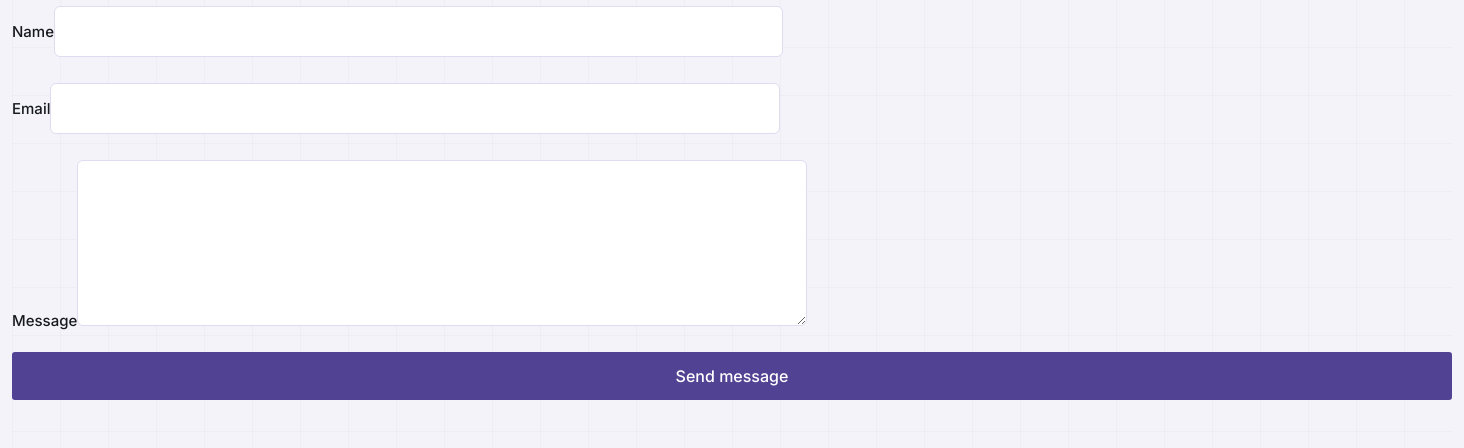
Scenario: ContactForm (E5-F1-S1 / E5-F1-S2) › rejects a malformed email address
In the field labelled "Name": coordinates (419, 31) [54,6,783,57], type "Jane Founder"
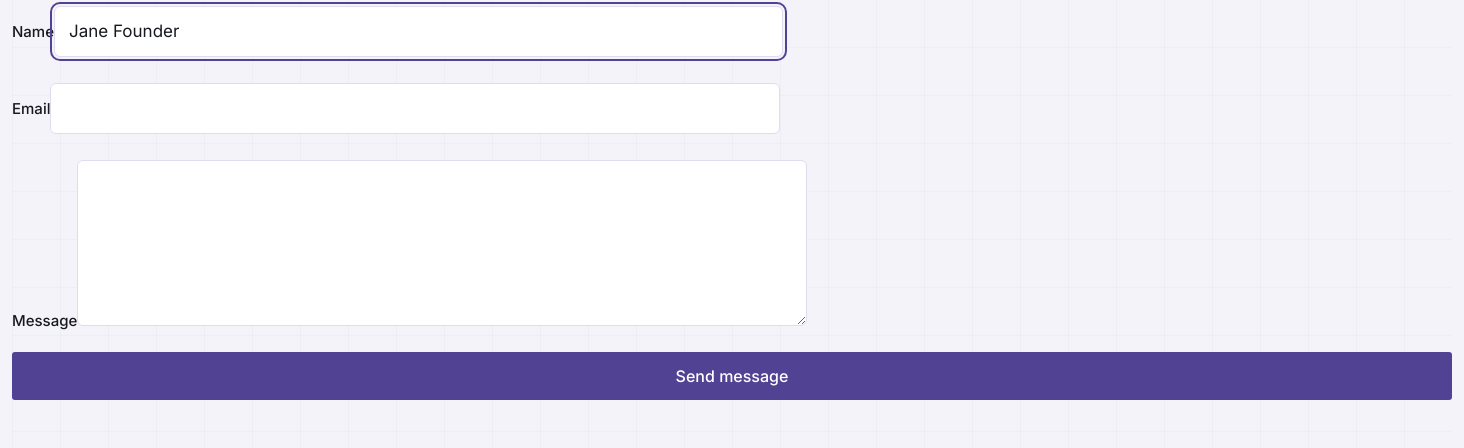
In the field labelled "Email": coordinates (415, 108) [50,83,780,134], type "not-an-email"
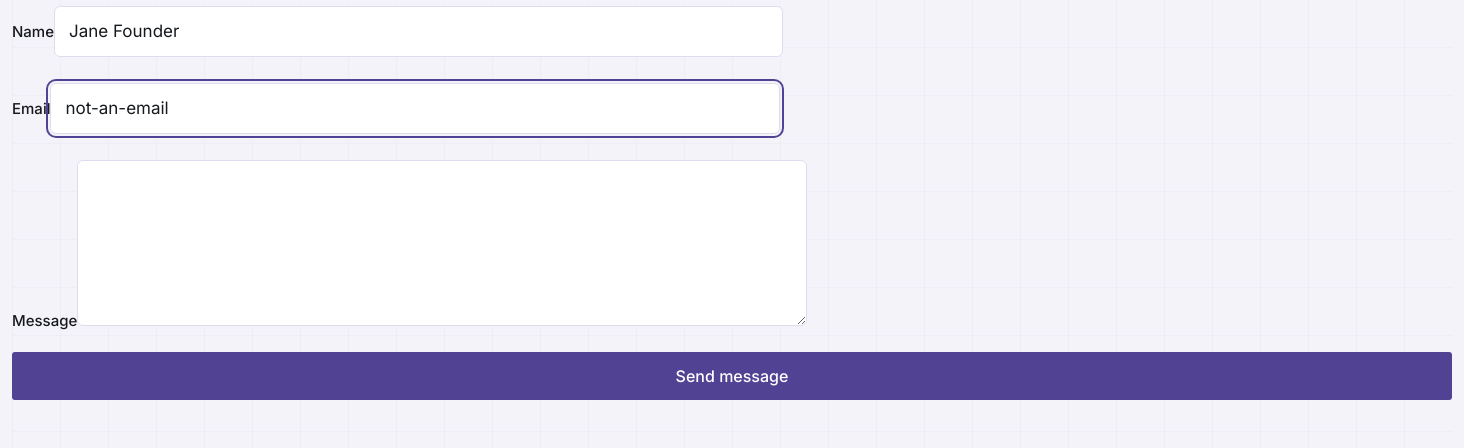
In the text box labelled "Message": coordinates (442, 243) [77,160,807,326], type "Interested in an MVP build."
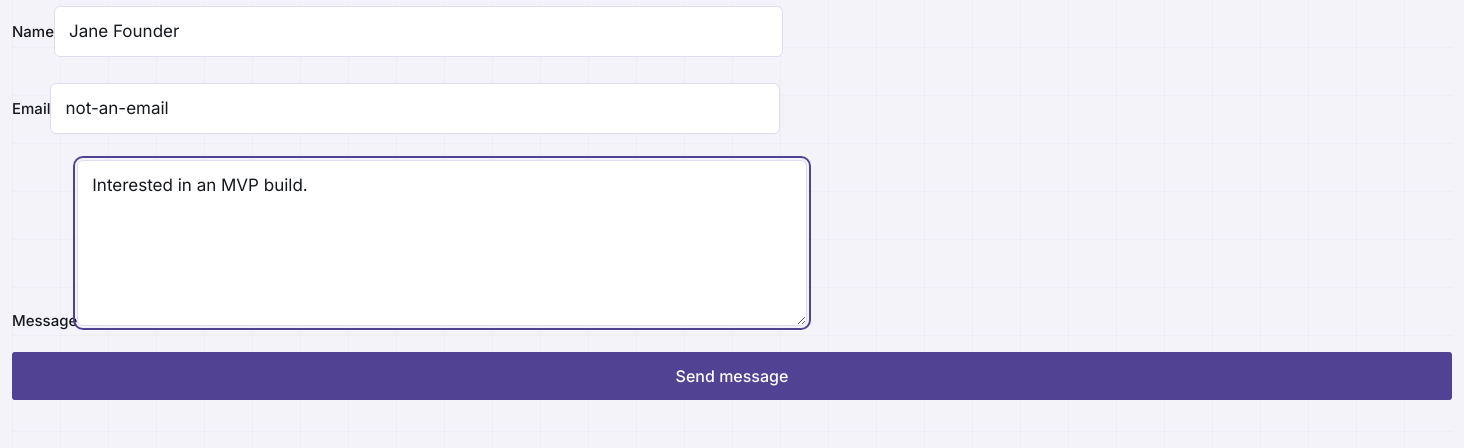
Click the button "Send message": coordinates (732, 376) [12,352,1452,400]
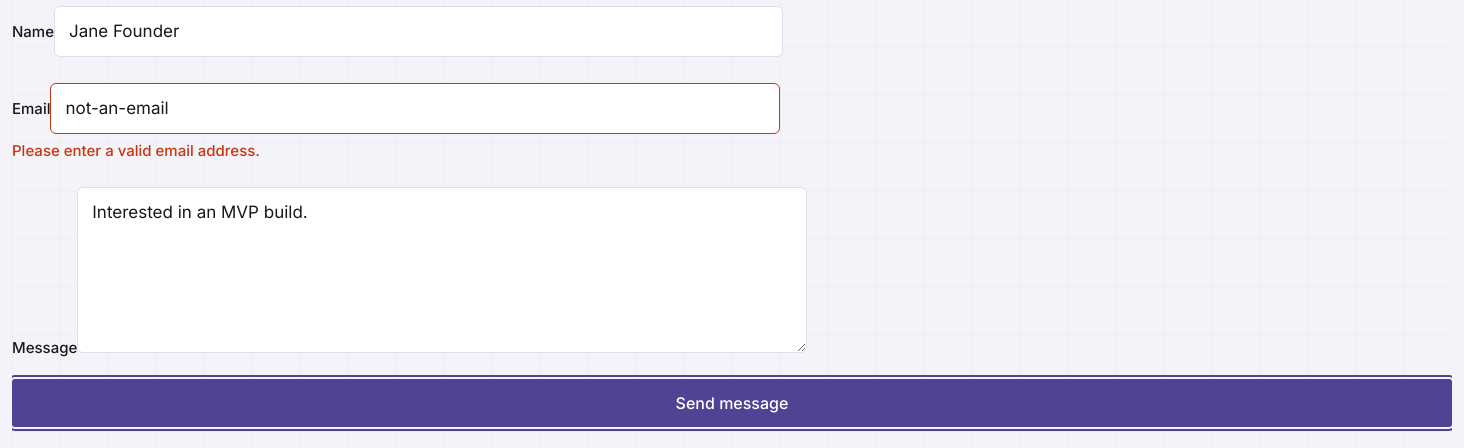
Expected: the text "Please enter a valid email address." is shown, [12,141,260,160]
